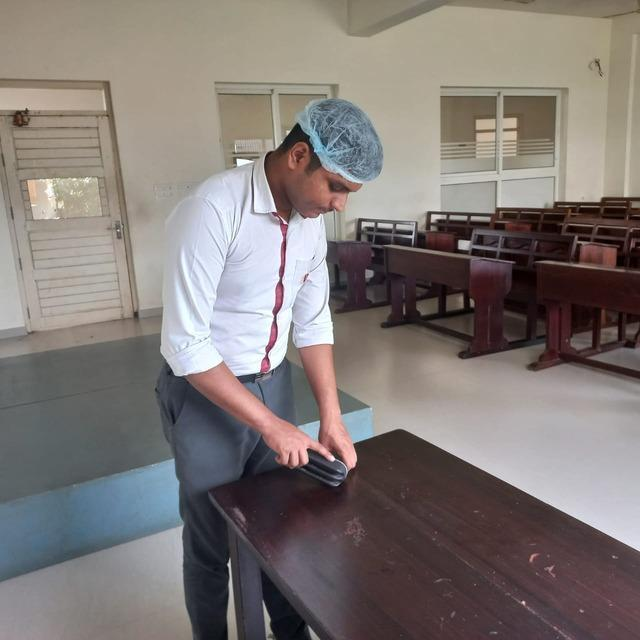bare_hand: (255, 419, 335, 469), (317, 416, 361, 469)
